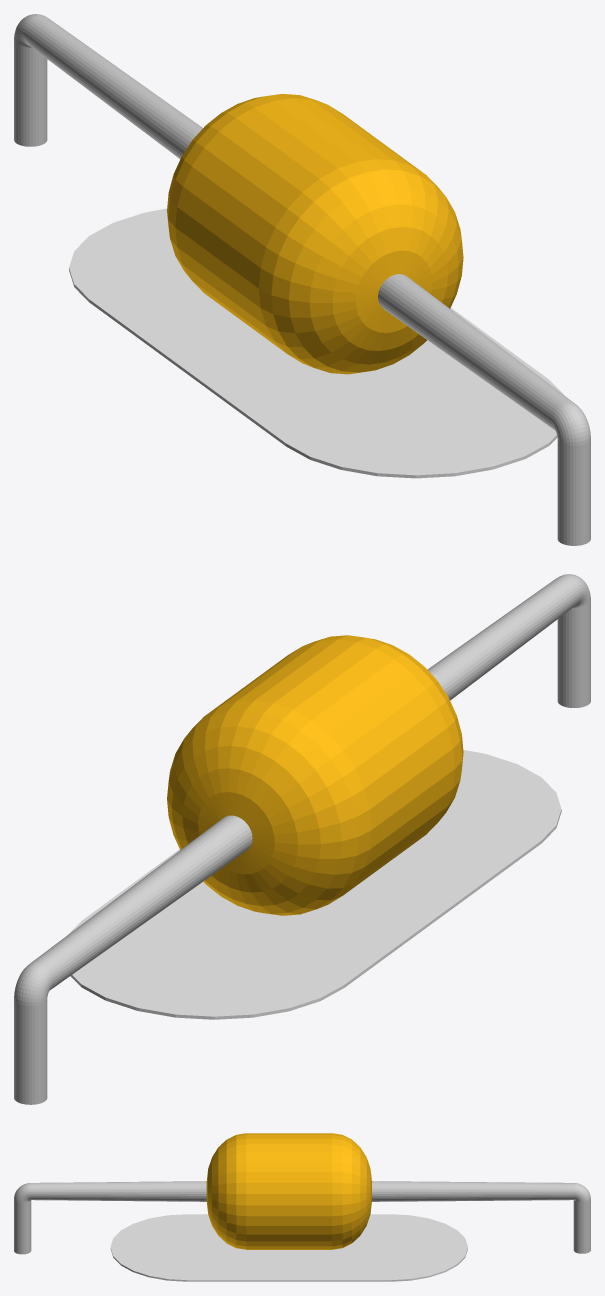
3 renders of one model, top to bottom at view 1: azimuth 30°, elevation 25°; view 2: azimuth 150°, elevation 25°; view 3: azimuth 270°, elevation 25°, orthographic. The views are drawn at different scales.
Visible parts, largest first — view 1: Y_6, Y_6_plane; view 2: Y_6, Y_6_plane; view 3: Y_6, Y_6_plane.
Boxes of the visible parts, bbox=[...] form: Y_6: bbox=[14, 14, 590, 545]; Y_6_plane: bbox=[69, 208, 563, 478]; Y_6: bbox=[14, 574, 590, 1104]; Y_6_plane: bbox=[67, 750, 561, 1019]; Y_6: bbox=[14, 1133, 590, 1254]; Y_6_plane: bbox=[110, 1214, 467, 1281].
Size of the model in its own units: 0.018 by 0.0143 by 0.0666.
